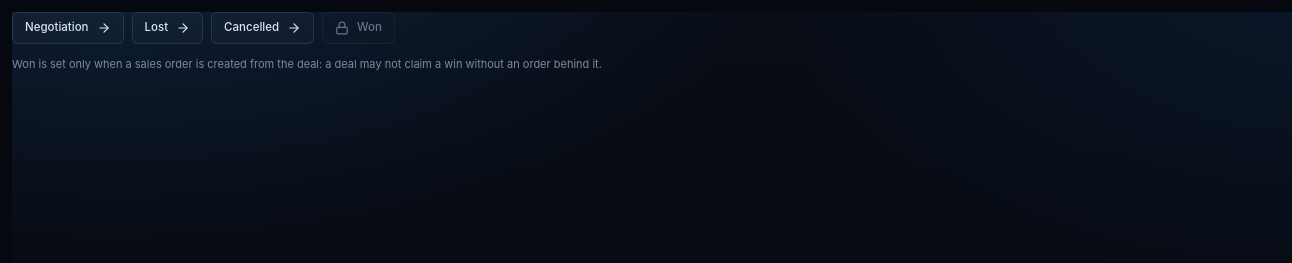
it: TransitionPanel › explains a version conflict instead of pretending it worked
The image size is (1292, 263).
Click the button "Negotiation". click: (68, 28)
box: [12,12,124,44]
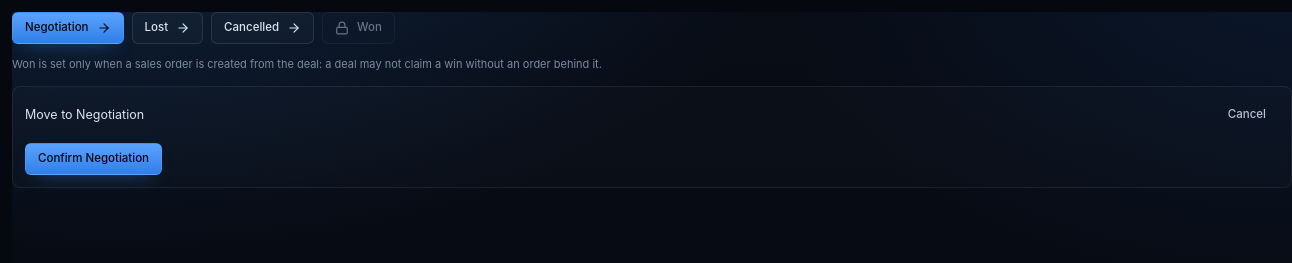
Click the button "Confirm Negotiation". click: (94, 159)
box: [25,143,162,175]
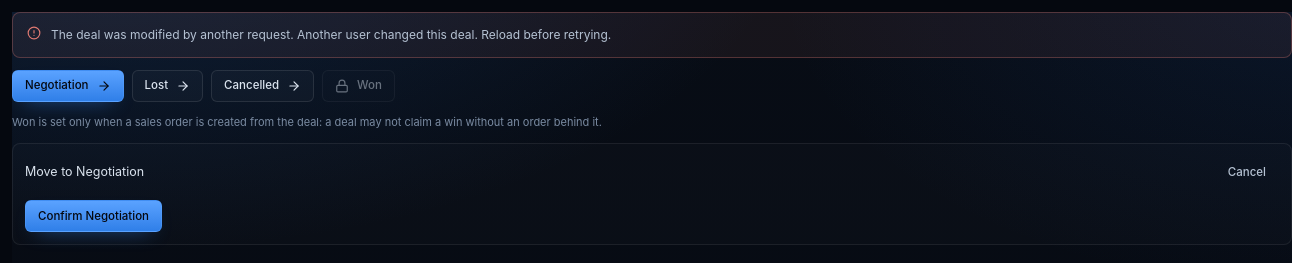
Check: the message shows "reload before retrying", box [51,27,611,42]
